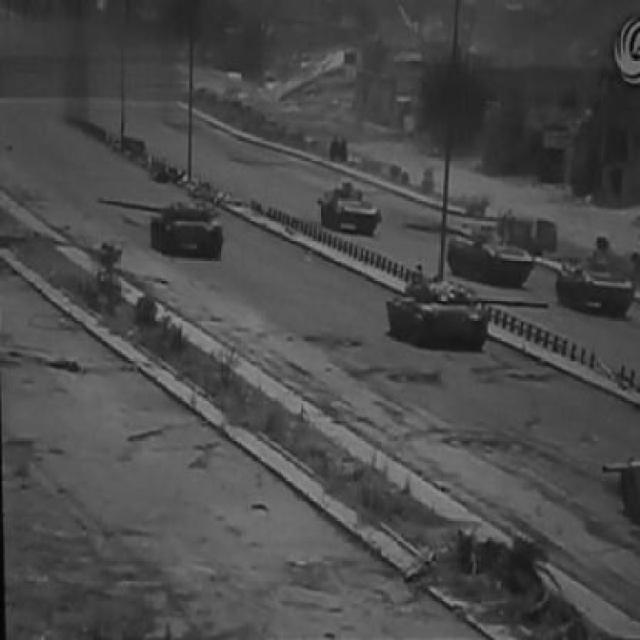Tank: (377, 274, 554, 360), (88, 189, 231, 269), (430, 217, 547, 291), (553, 230, 640, 317), (306, 167, 392, 243), (592, 441, 640, 532)
